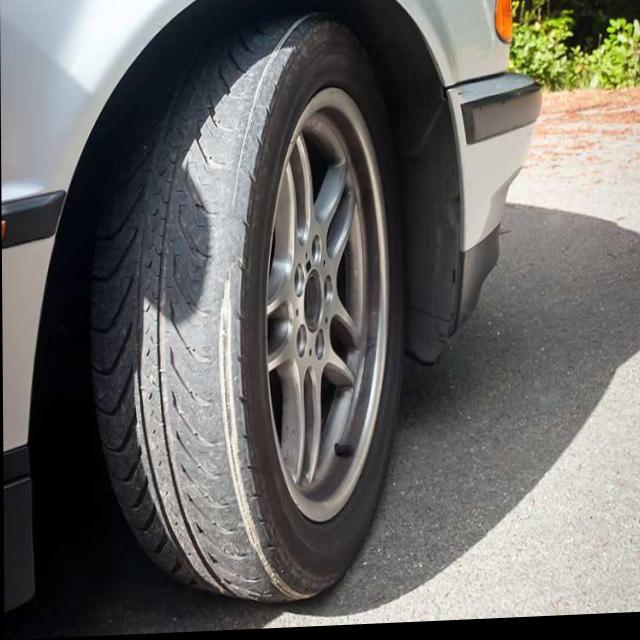Flat spots: (119, 122, 248, 565)
